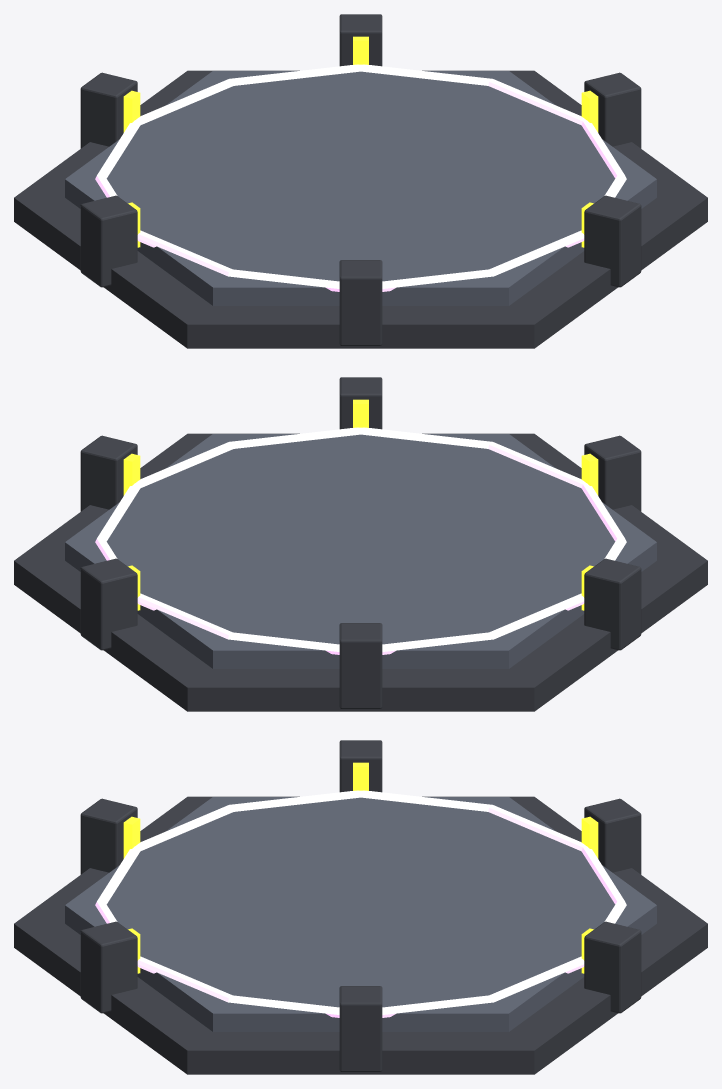
The model's file is altar_custodio.glb.
3 views of the same model, one above another, from view 1: azimuth 30°, elevation 25°; view 2: azimuth 150°, elevation 25°; view 3: azimuth 270°, elevation 25° (orthographic).
Visible parts, largest first — view 1: Altar_Plataforma, Altar_Base, Altar_Anillo, Pylon_3, Pylon_5, Pylon_4, Pylon_0, Pylon_2, Pylon_1, Luz_0, Luz_2; view 2: Altar_Plataforma, Altar_Base, Altar_Anillo, Pylon_1, Pylon_3, Pylon_2, Pylon_0, Pylon_4, Pylon_5, Luz_0, Luz_4; view 3: Altar_Plataforma, Altar_Base, Altar_Anillo, Pylon_1, Pylon_5, Pylon_0, Pylon_2, Pylon_4, Pylon_3, Luz_2, Luz_4.
Part boxes in pixels (x1=…): Altar_Plataforma: x1=65, y1=71, x2=656, y2=305; Altar_Base: x1=14, y1=70, x2=707, y2=348; Altar_Anillo: x1=95, y1=64, x2=626, y2=291; Pylon_3: x1=80, y1=195, x2=137, y2=287; Pylon_5: x1=584, y1=195, x2=641, y2=287; Pylon_4: x1=339, y1=260, x2=382, y2=345; Pylon_0: x1=584, y1=72, x2=641, y2=148; Pylon_2: x1=80, y1=72, x2=137, y2=148; Pylon_1: x1=339, y1=14, x2=382, y2=66; Luz_0: x1=581, y1=90, x2=598, y2=132; Luz_2: x1=123, y1=90, x2=140, y2=132; Altar_Plataforma: x1=65, y1=434, x2=656, y2=668; Altar_Base: x1=14, y1=433, x2=707, y2=711; Altar_Anillo: x1=95, y1=427, x2=626, y2=654; Pylon_1: x1=80, y1=558, x2=137, y2=650; Pylon_3: x1=584, y1=558, x2=641, y2=650; Pylon_2: x1=339, y1=623, x2=382, y2=708; Pylon_0: x1=80, y1=435, x2=137, y2=511; Pylon_4: x1=584, y1=435, x2=641, y2=511; Pylon_5: x1=339, y1=377, x2=382, y2=429; Luz_0: x1=123, y1=453, x2=140, y2=495; Luz_4: x1=581, y1=453, x2=598, y2=495; Altar_Plataforma: x1=65, y1=797, x2=656, y2=1031; Altar_Base: x1=14, y1=796, x2=707, y2=1074; Altar_Anillo: x1=95, y1=790, x2=626, y2=1017; Pylon_1: x1=584, y1=921, x2=641, y2=1013; Pylon_5: x1=80, y1=921, x2=137, y2=1013; Pylon_0: x1=339, y1=986, x2=382, y2=1071; Pylon_2: x1=584, y1=798, x2=641, y2=874; Pylon_4: x1=80, y1=798, x2=137, y2=874; Pylon_3: x1=339, y1=740, x2=382, y2=792; Luz_2: x1=581, y1=816, x2=598, y2=858; Luz_4: x1=123, y1=816, x2=140, y2=858.
Bounding box in the file's own units: 6.12 × 0.825 × 6.8.
